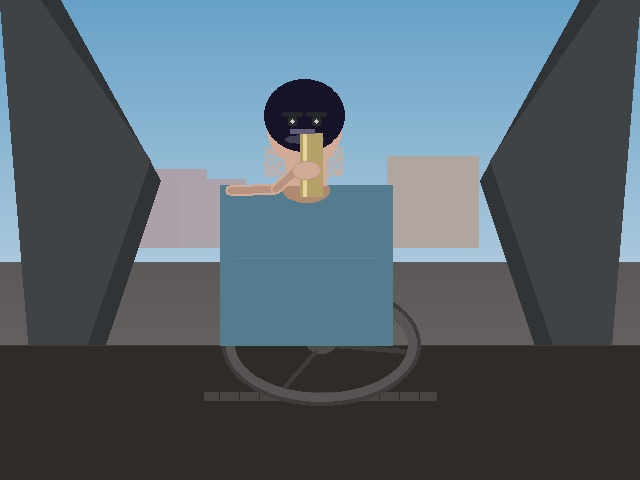drinking: (281, 119, 332, 206)
